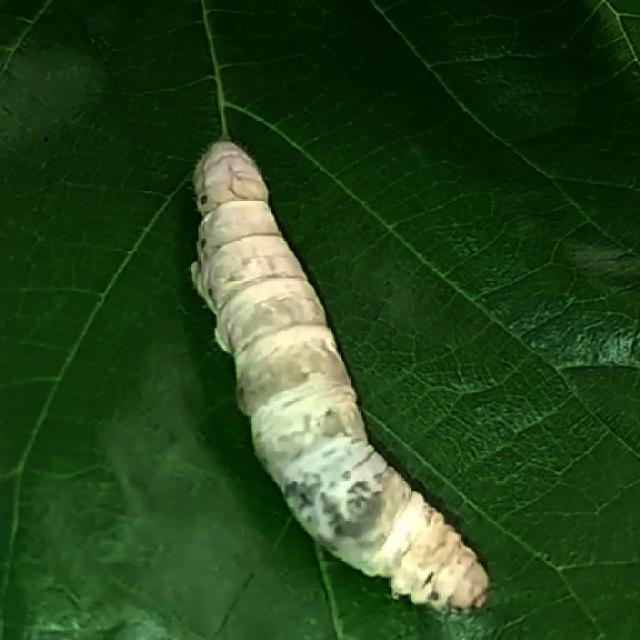Grasserie: (170, 114, 517, 627)
